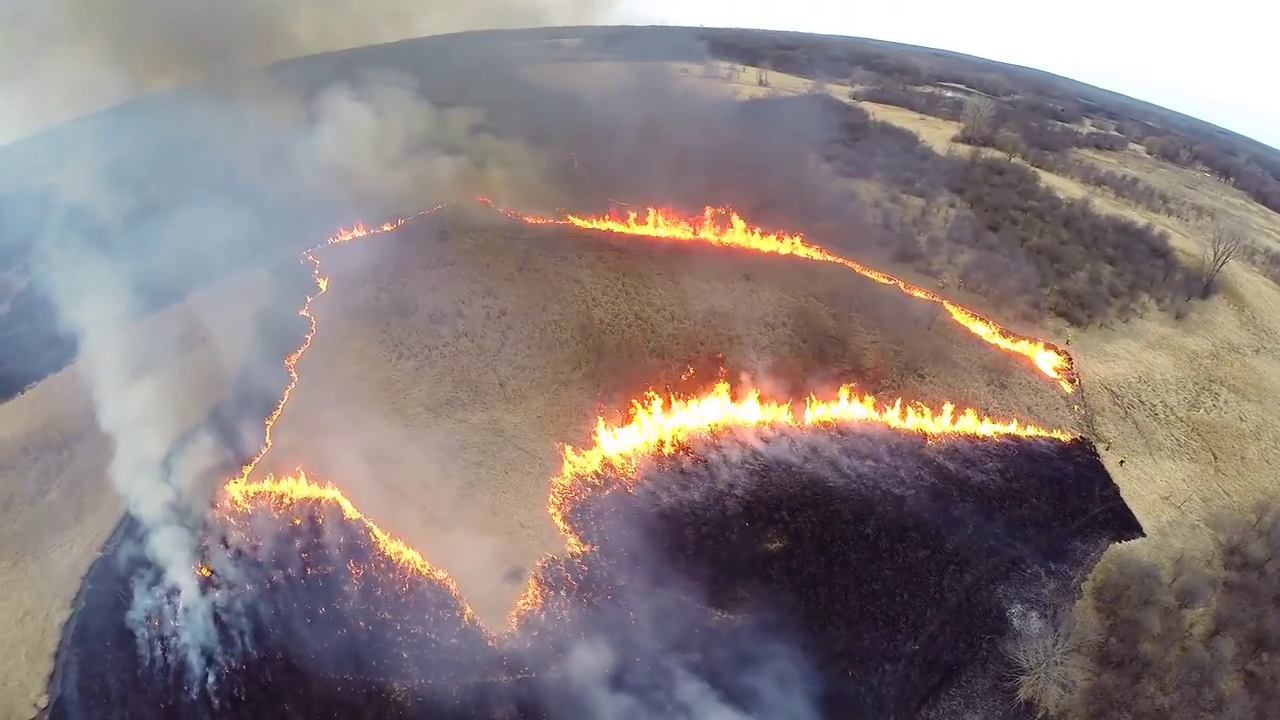forest_fire: (495, 206, 1077, 392), (548, 380, 1071, 554), (219, 218, 456, 590), (510, 579, 545, 627)
